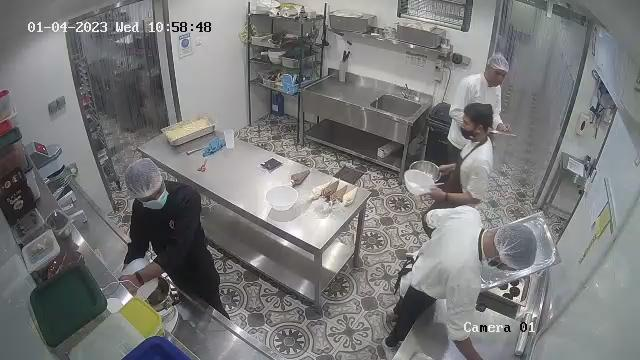apron: (431, 140, 491, 210)
no_apron: (142, 192, 211, 273), (470, 74, 500, 115)
